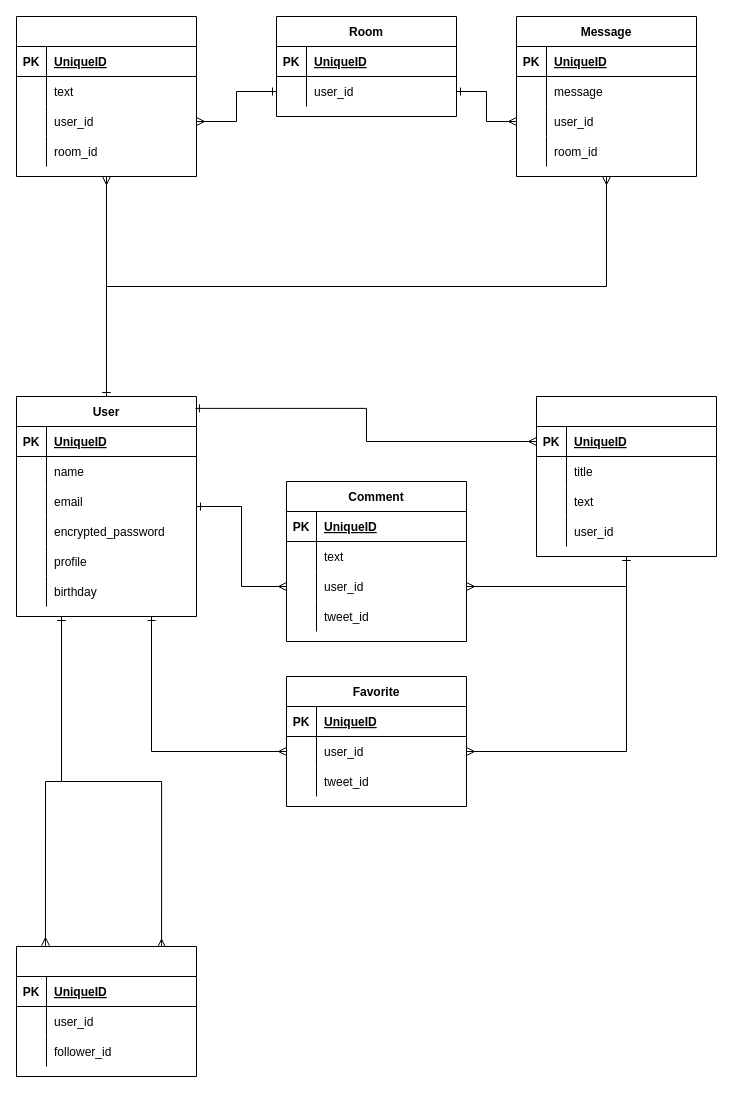
This 733x1093 diagram has some shape labels left out. Each missing label, with the box of its shape:
Entrie: (16, 16, 196, 176)
Relationship: (16, 946, 196, 1076)
Tweet: (536, 396, 716, 556)
